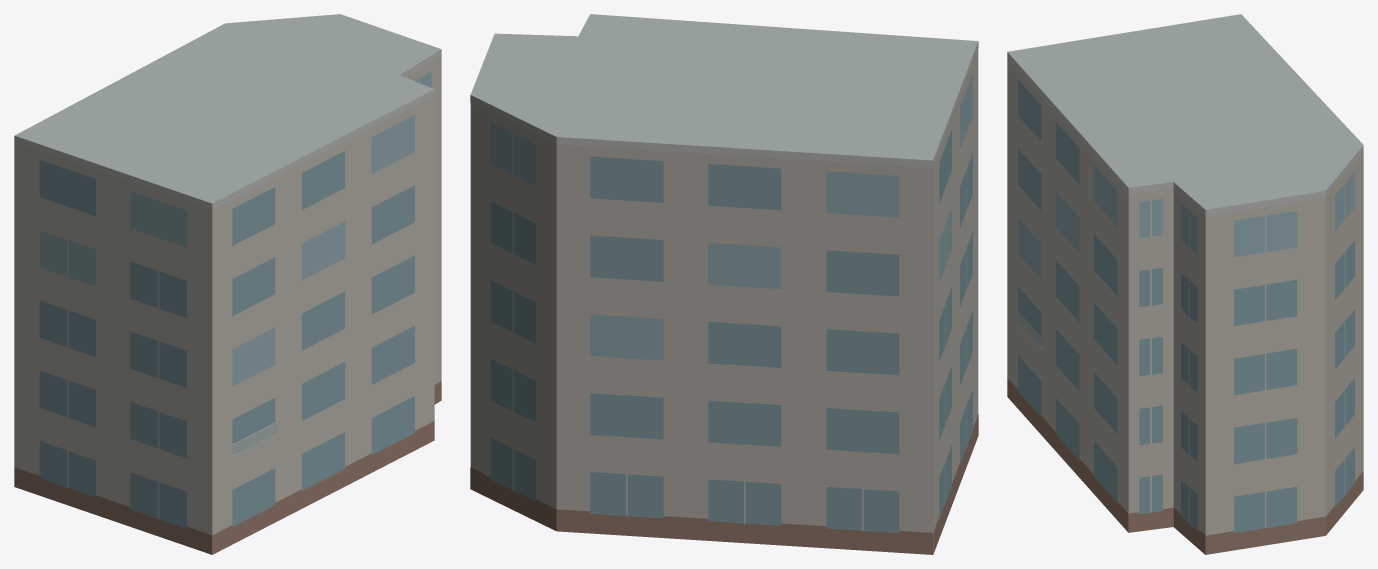
Rendered from survey-upis-32843011.glb.
The picture shows the model from 3 angles, left to right: view 1: azimuth 30°, elevation 25°; view 2: azimuth 150°, elevation 25°; view 3: azimuth 270°, elevation 25°; orthographic projection. The views are drawn at different scales.
Parts seen in each view (by area): view 1: survey-upis-32843011.tmp; view 2: survey-upis-32843011.tmp; view 3: survey-upis-32843011.tmp.
Boxes of the visible parts, box(x1,y1,x2,y2) form: survey-upis-32843011.tmp: box(14, 14, 441, 554); survey-upis-32843011.tmp: box(470, 14, 978, 554); survey-upis-32843011.tmp: box(1007, 14, 1363, 554).
Bounding box in the file's own units: 16.02 × 13.14 × 12.31.
